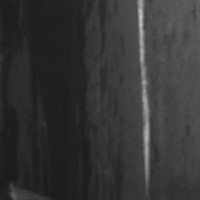inclusion: (14, 1, 117, 197)
scratches: (133, 1, 155, 195)
